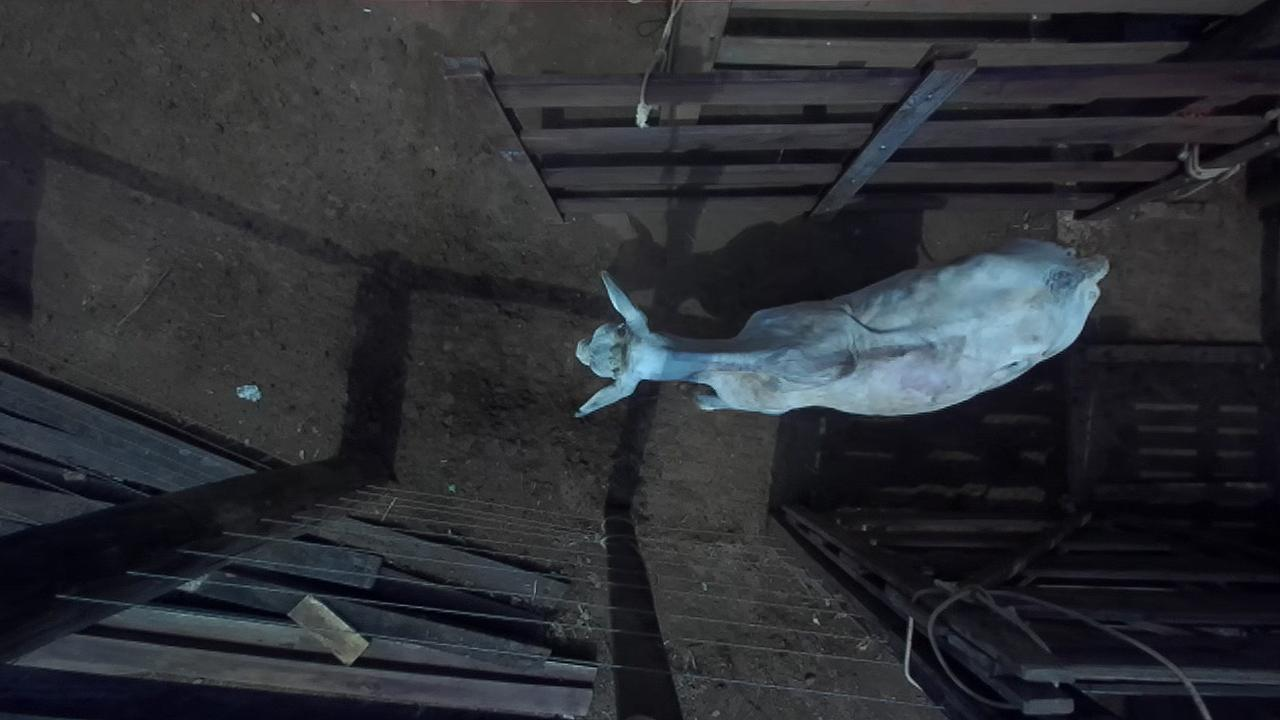cattle: (572, 235, 1110, 420)
